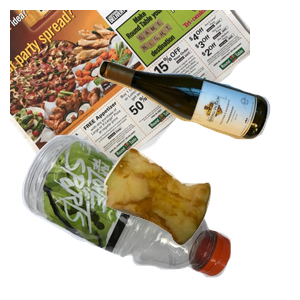glass: (95, 57, 300, 189)
paper: (10, 10, 250, 190)
plastic: (19, 132, 242, 300)
trash: (101, 145, 300, 300)
